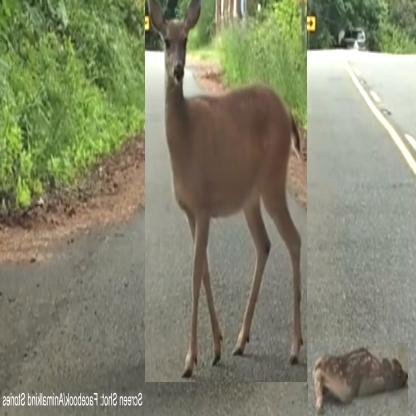Deer: (145, 0, 306, 382), (308, 343, 408, 416)
